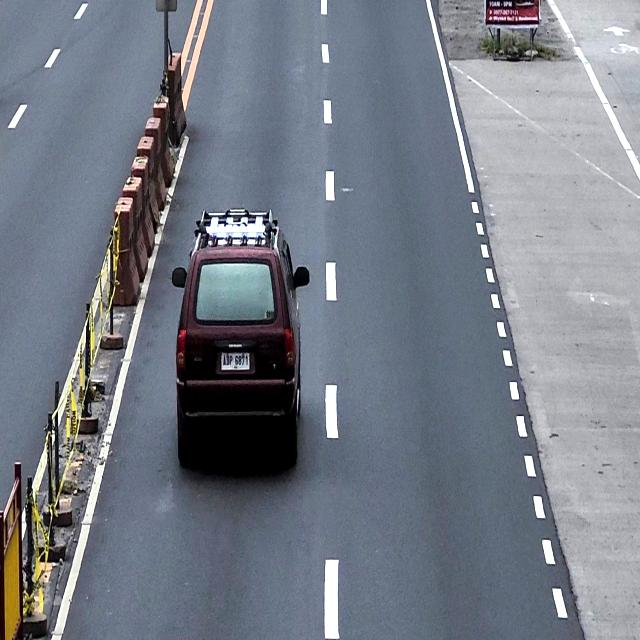Car: (171, 207, 310, 468)
License-Plate: (217, 348, 254, 374)
